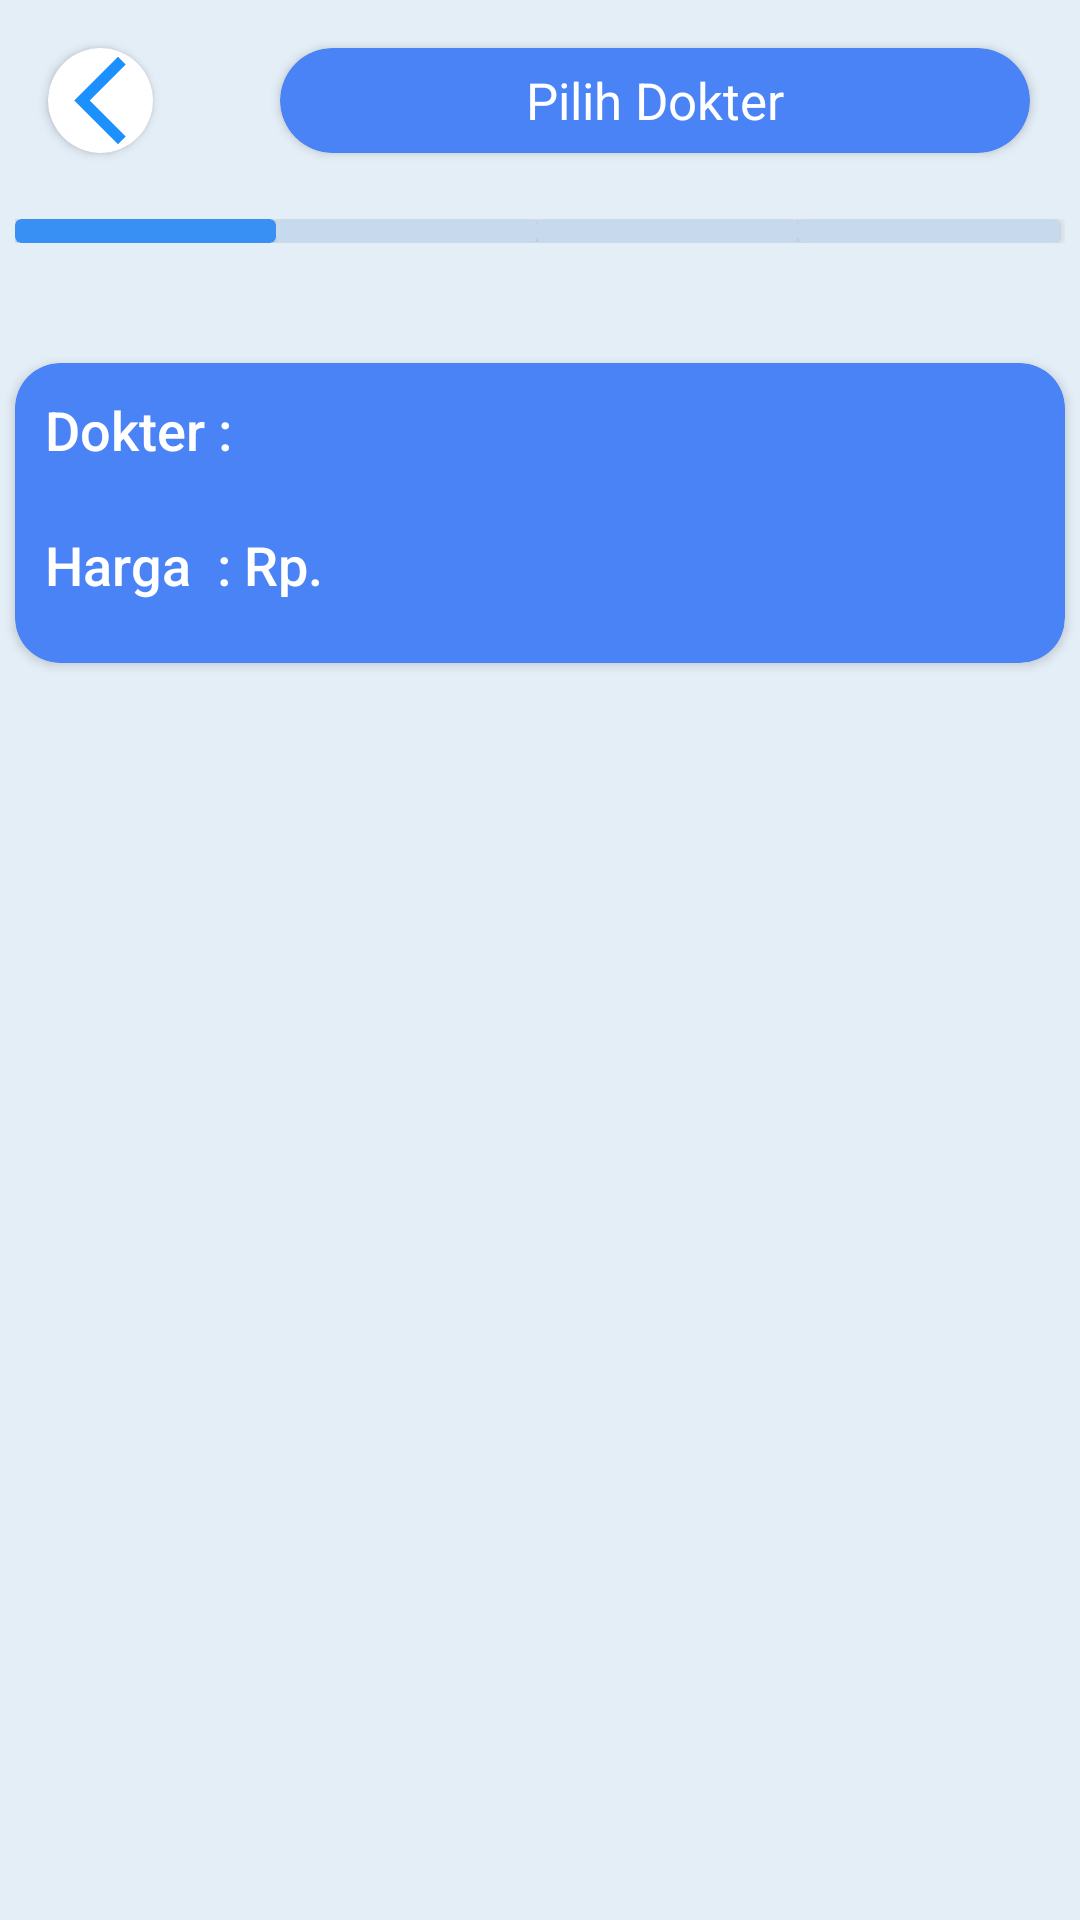

Icons on this 1080px x 1920px Android screen, each with the point to tap as [x,y]:
back: [100,100]
